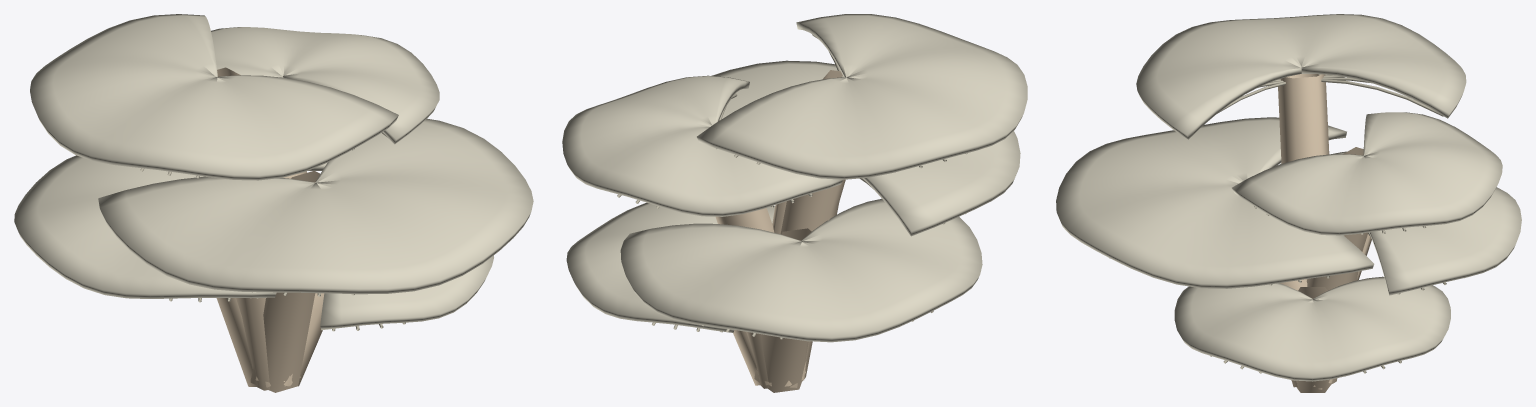
File: oyster.glb
The picture shows the model from 3 angles, left to right: view 1: azimuth 30°, elevation 25°; view 2: azimuth 150°, elevation 25°; view 3: azimuth 270°, elevation 25°; orthographic projection. The views are drawn at different scales.
Visible parts, largest first — view 1: oyster; view 2: oyster; view 3: oyster.
Part boxes in pixels (x1=…): oyster: x1=14, y1=14, x2=533, y2=392; oyster: x1=562, y1=14, x2=1027, y2=392; oyster: x1=1056, y1=14, x2=1521, y2=392.
Size of the model in its own units: 1.32 by 1 by 1.42.
